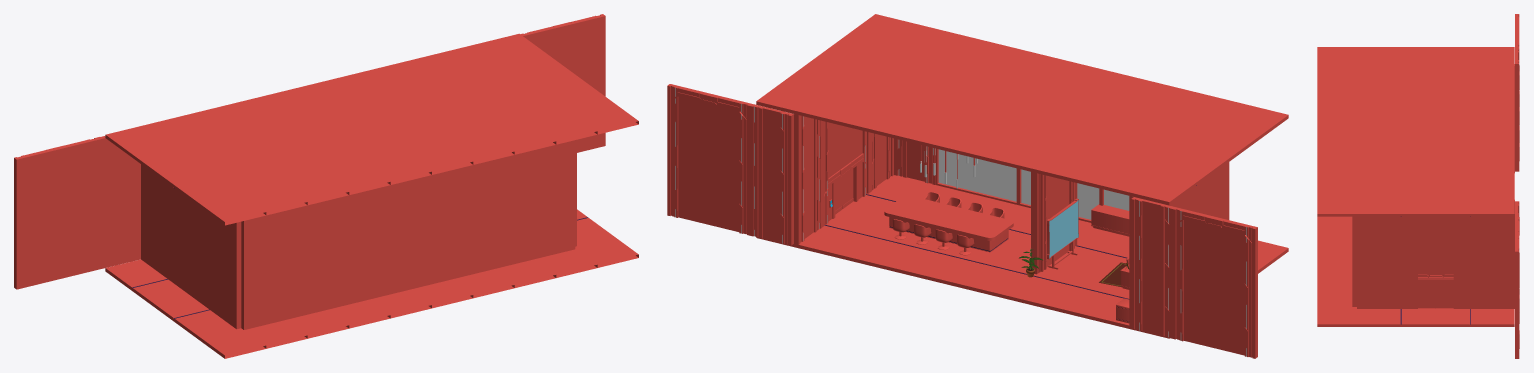
Rendered from Kirova_Ms_Kie_Office.fbx.
3 views of the same model, side by side, from view 1: azimuth 30°, elevation 25°; view 2: azimuth 150°, elevation 25°; view 3: azimuth 270°, elevation 25° (orthographic). The views are drawn at different scales.
Visible parts, largest first — view 1: PBS_Single.118, PBS_Floor_Ceilings; view 2: PBS_Floor_Ceilings, PBS_Single.118, Long_Table, PBS_Wall_Panel_Divider, TV_Screen.006, Chair_Array, Front_Desk.003, Chair_Array.001; view 3: PBS_Floor_Ceilings, PBS_Single.118.
Boxes of the visible parts, x1=… form: PBS_Single.118: x1=14, y1=14, x2=605, y2=329; PBS_Floor_Ceilings: x1=105, y1=33, x2=638, y2=358; PBS_Floor_Ceilings: x1=756, y1=14, x2=1288, y2=338; PBS_Single.118: x1=667, y1=84, x2=1257, y2=358; Long_Table: x1=884, y1=195, x2=1013, y2=252; PBS_Wall_Panel_Divider: x1=1031, y1=172, x2=1077, y2=274; TV_Screen.006: x1=1047, y1=198, x2=1078, y2=269; Chair_Array: x1=892, y1=219, x2=974, y2=255; Front_Desk.003: x1=1091, y1=204, x2=1129, y2=236; Chair_Array.001: x1=924, y1=192, x2=1004, y2=218; PBS_Floor_Ceilings: x1=1317, y1=47, x2=1514, y2=326; PBS_Single.118: x1=1352, y1=14, x2=1519, y2=358.
Size of the model in its own units: 2846 by 636 by 1025.
36 materials, 5 textured.
